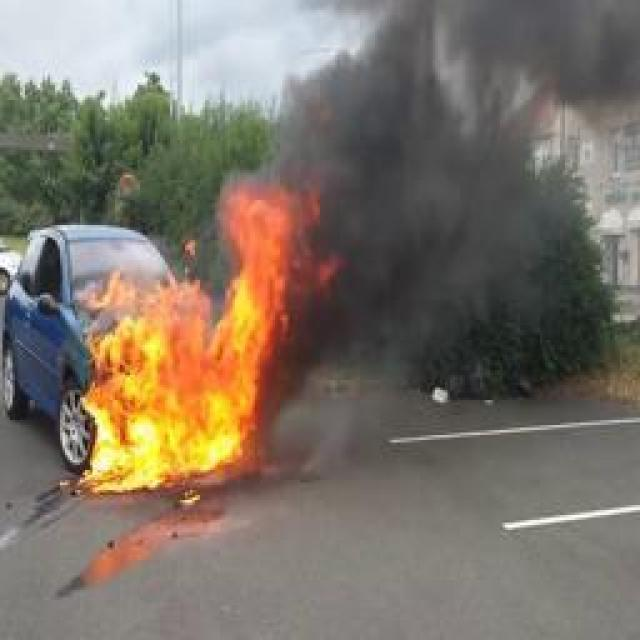Fire: (78, 182, 342, 496)
